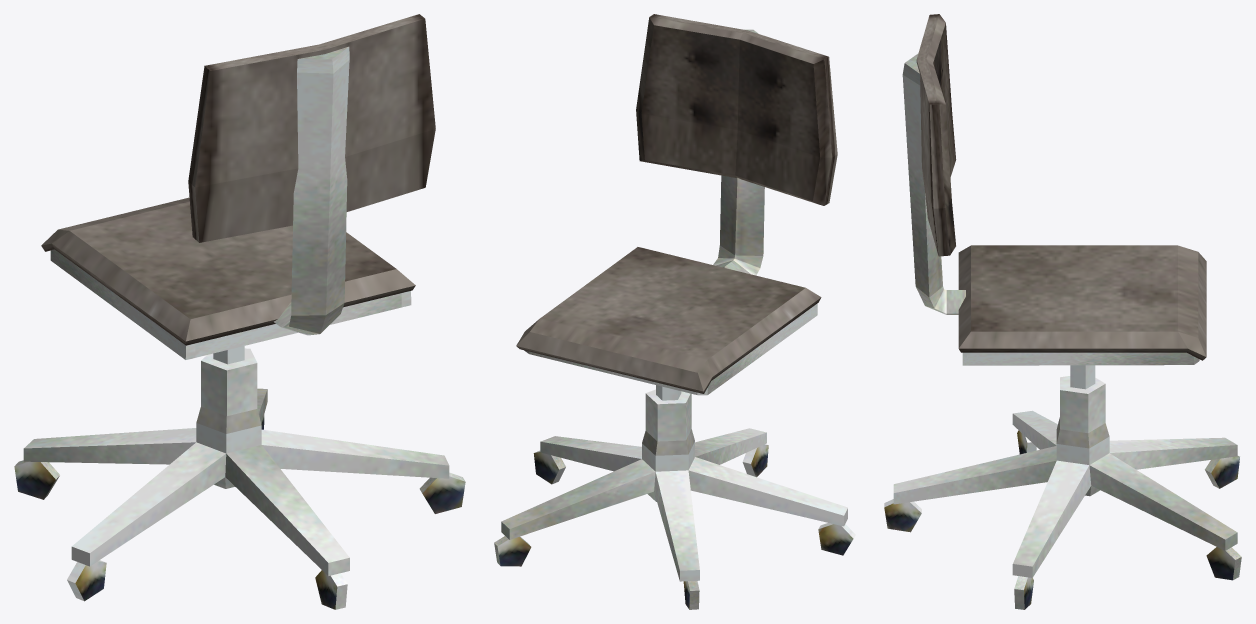
Rendered from office_chair_grey_alt.obj.
The picture shows the model from 3 angles, left to right: view 1: azimuth 30°, elevation 25°; view 2: azimuth 150°, elevation 25°; view 3: azimuth 270°, elevation 25°; orthographic projection. The views are drawn at different scales.
Visible parts, largest first — view 1: office_chair_grey_alt; view 2: office_chair_grey_alt; view 3: office_chair_grey_alt.
Part boxes in pixels (left/top/right/bottom): office_chair_grey_alt: left=14, top=14, right=465, bottom=609; office_chair_grey_alt: left=494, top=14, right=855, bottom=609; office_chair_grey_alt: left=884, top=14, right=1241, bottom=609.
Size of the model in its own units: 0.8196 by 1.1 by 0.7513.
